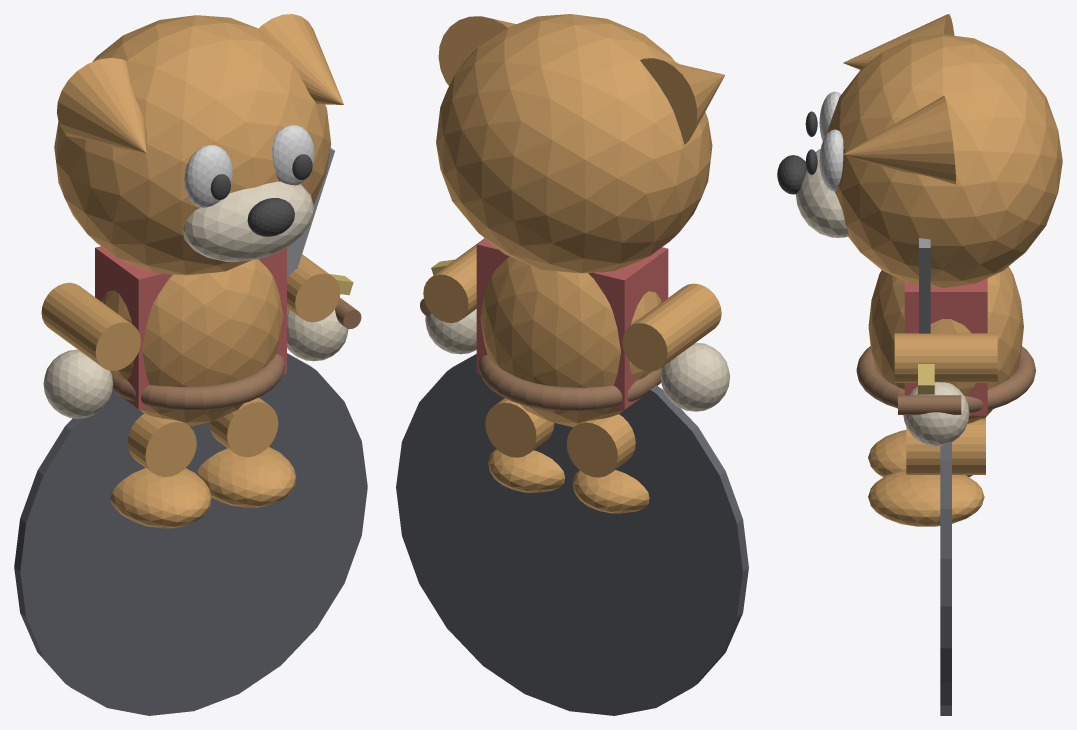
File: Rian_Prototype_V1.glb
The picture shows the model from 3 angles, left to right: view 1: azimuth 30°, elevation 25°; view 2: azimuth 150°, elevation 25°; view 3: azimuth 270°, elevation 25°; orthographic projection. The views are drawn at different scales.
Parts seen in each view (by area): view 1: Base, Head, Body, Muzzle, Ear_-1, Arm_-1, Coat, Foot_-1, Foot_1, Belt, Hand_-1, Ear_1 (+8 smaller); view 2: Base, Head, Body, Coat, Arm_-1, Belt, Hand_-1, Ear_-1, Leg_-1, Arm_1, Leg_1, Foot_-1 (+3 smaller); view 3: Head, Body, Ear_1, Arm_1, Foot_1, Coat, Base, Belt, Leg_1, Muzzle, Hand_1, Foot_-1 (+7 smaller).
Part boxes in pixels (<box>): Base: <box>14,353,367,715</box>; Head: <box>54,15,331,275</box>; Body: <box>101,259,283,426</box>; Muzzle: <box>183,181,313,261</box>; Ear_-1: <box>57,58,146,153</box>; Arm_-1: <box>41,282,140,370</box>; Coat: <box>95,246,286,408</box>; Foot_-1: <box>110,468,211,528</box>; Foot_1: <box>196,446,296,507</box>; Belt: <box>110,354,284,410</box>; Hand_-1: <box>43,349,113,418</box>; Ear_1: <box>259,14,343,104</box>; Base: <box>396,354,748,715</box>; Head: <box>436,14,712,273</box>; Body: <box>480,256,661,427</box>; Coat: <box>476,238,668,409</box>; Arm_-1: <box>622,283,721,371</box>; Belt: <box>478,355,661,411</box>; Hand_-1: <box>660,342,729,411</box>; Ear_-1: <box>640,58,724,144</box>; Leg_-1: <box>566,414,635,477</box>; Arm_1: <box>423,239,483,322</box>; Leg_1: <box>485,398,554,457</box>; Foot_-1: <box>572,470,649,513</box>; Head: <box>827,34,1062,287</box>; Body: <box>868,266,1023,423</box>; Ear_1: <box>843,96,955,184</box>; Arm_1: <box>894,333,997,382</box>; Foot_1: <box>868,469,984,526</box>; Coat: <box>904,278,987,415</box>; Base: <box>940,442,951,715</box>; Belt: <box>856,346,1035,412</box>; Leg_1: <box>906,418,985,474</box>; Muzzle: <box>795,149,848,237</box>; Hand_1: <box>903,382,969,446</box>; Foot_-1: <box>868,430,972,477</box>.
Bounding box in the file's own units: 2.3 × 4.32 × 1.72.
